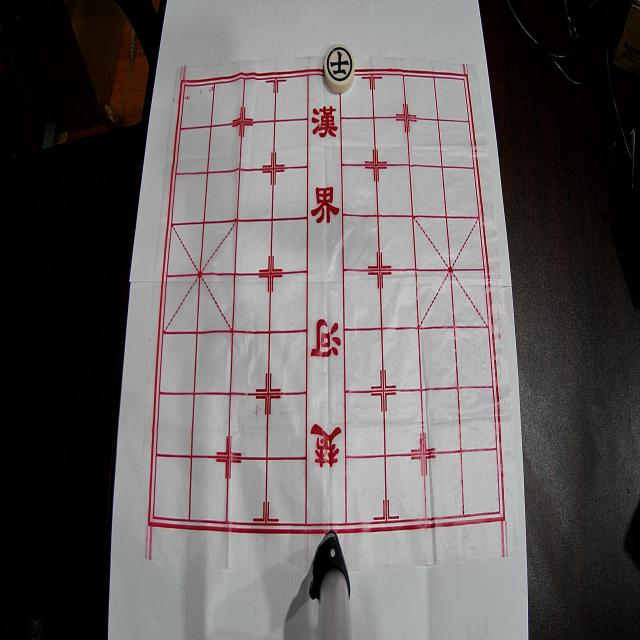black-guard: (324, 44, 354, 93)
